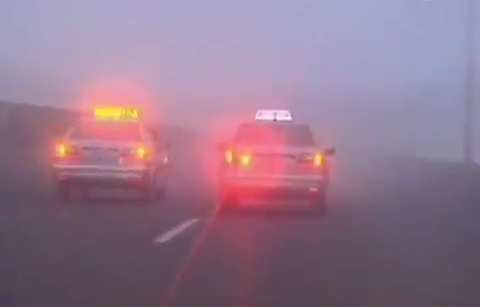car: (214, 108, 337, 216), (50, 104, 171, 204)
